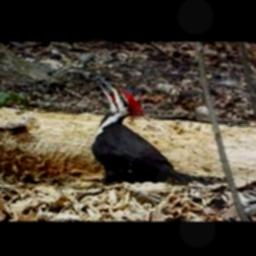Woodpecker: (91, 78, 214, 186)
